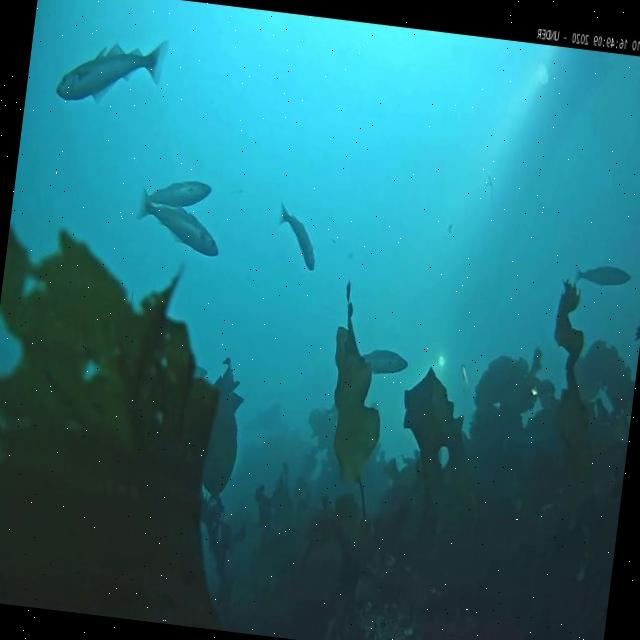fish: (57, 26, 169, 113), (132, 206, 223, 258), (272, 203, 322, 270), (142, 172, 211, 212), (573, 259, 632, 291), (357, 346, 408, 379), (459, 362, 472, 392)
